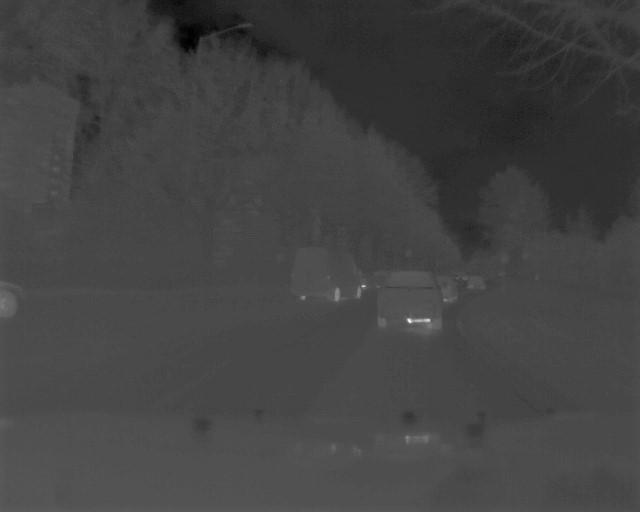car: (374, 270, 446, 330), (466, 275, 485, 291)
